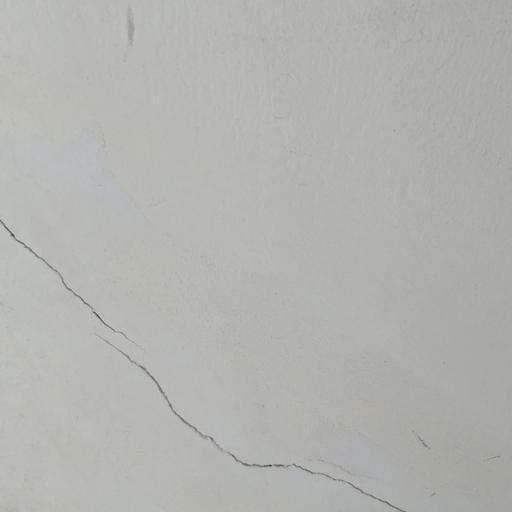minor_crack: (0, 195, 424, 512)
